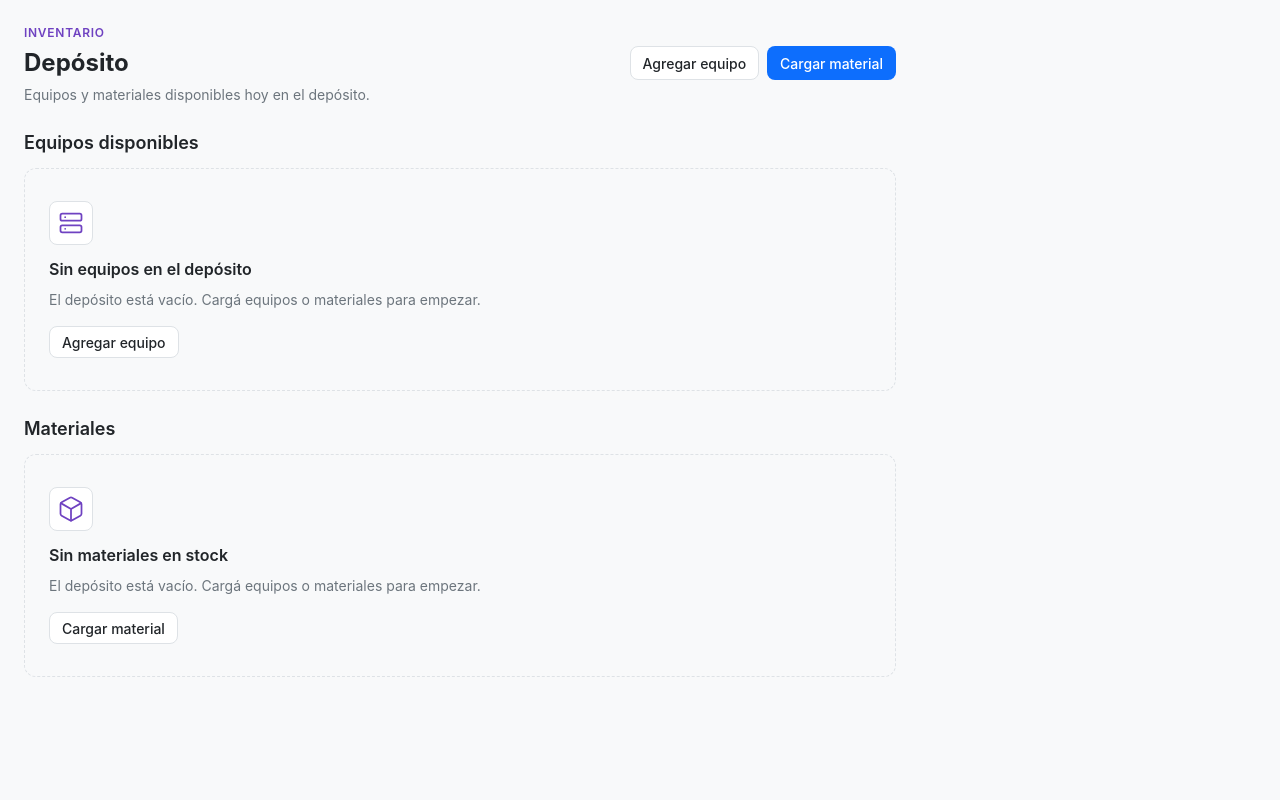
Test: InventoryDepotPage — empty depot with inventory.write › opens the LoadDepotMaterialModal when "Cargar material" header button is clicked
The image size is (1280, 800).
Click the 1st button "Cargar material" at [832, 63], box left=767, top=46, right=896, bottom=80
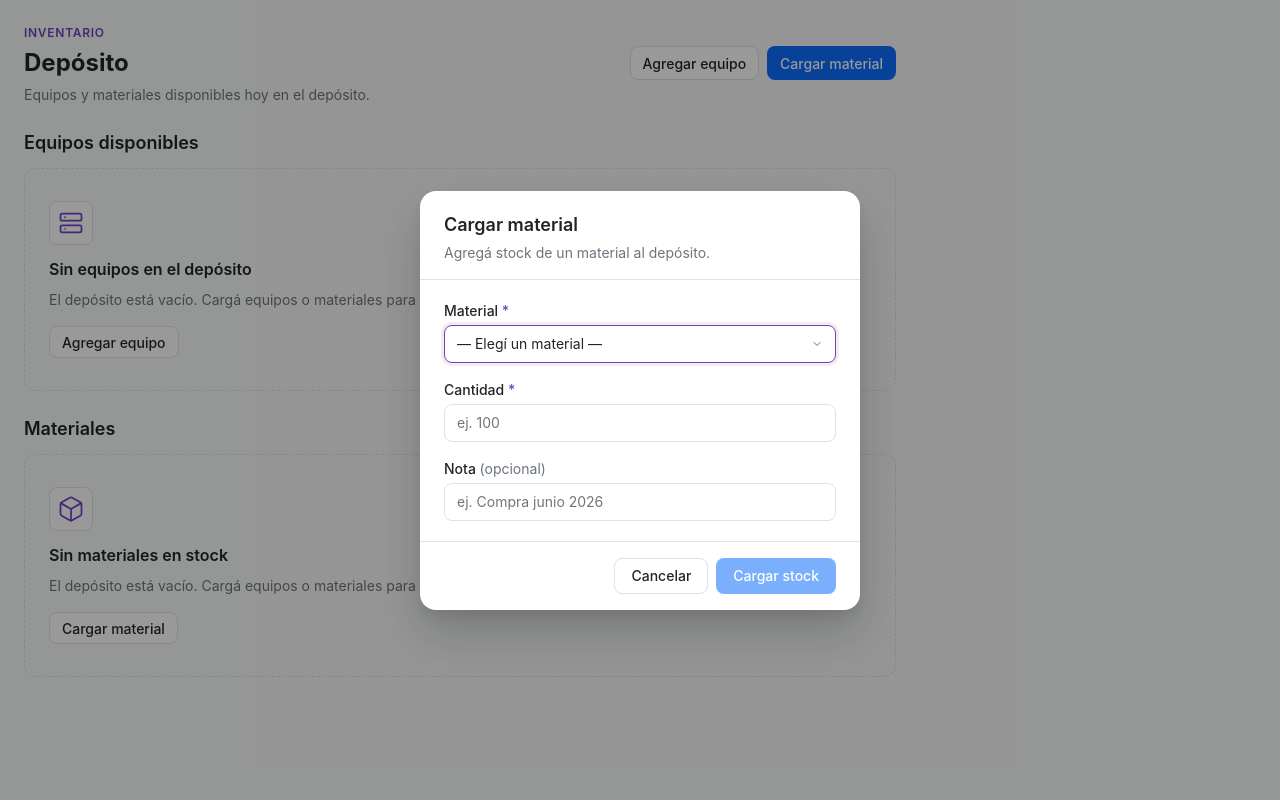
Now the dialog "Cargar material" is shown, box left=420, top=190, right=860, bottom=610
